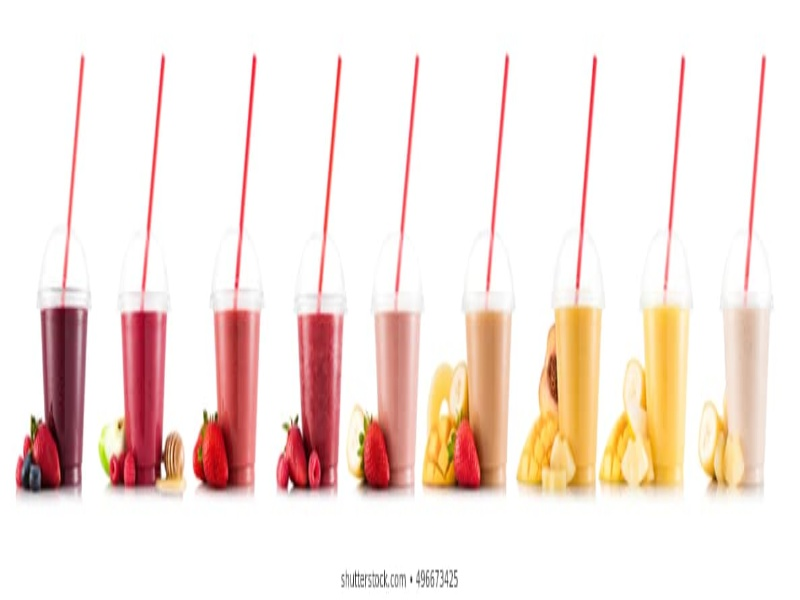straw: (55, 50, 91, 305), (387, 55, 423, 310), (226, 51, 262, 306), (135, 51, 171, 306), (310, 55, 345, 315), (734, 49, 769, 309), (656, 49, 691, 309), (479, 52, 513, 309), (568, 51, 600, 307)
